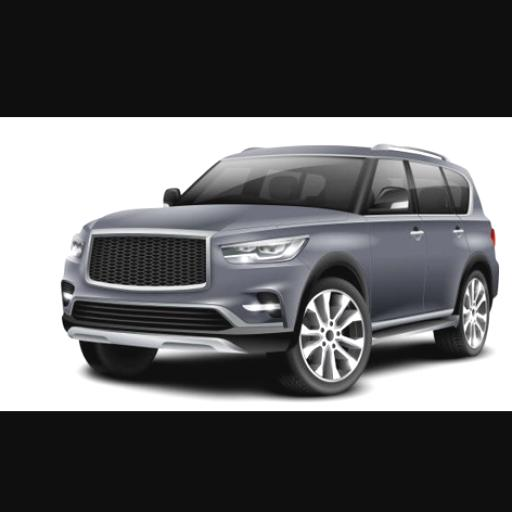suv: (62, 145, 498, 393)
